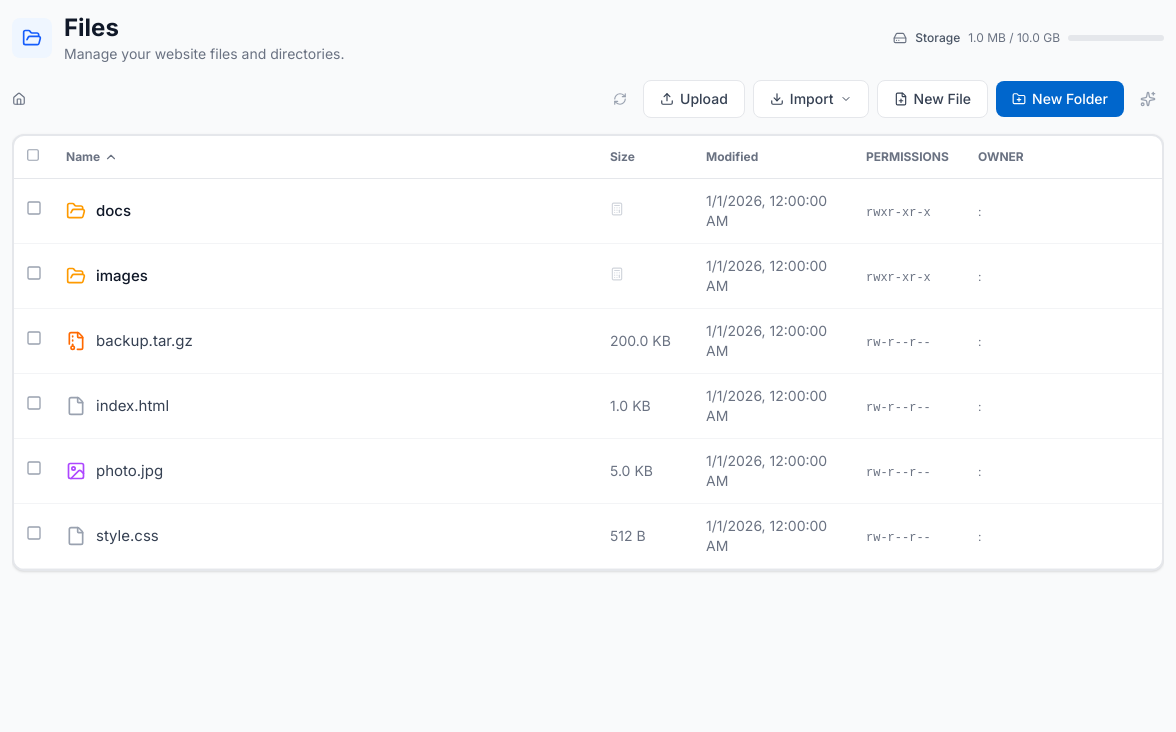
Test: Files Page › Multi-select › shows bulk toolbar when items are selected
Note: Row 0 is header, row 1+ are entries
Click the button without text next to "docs": (34, 208) [26,200,42,216]
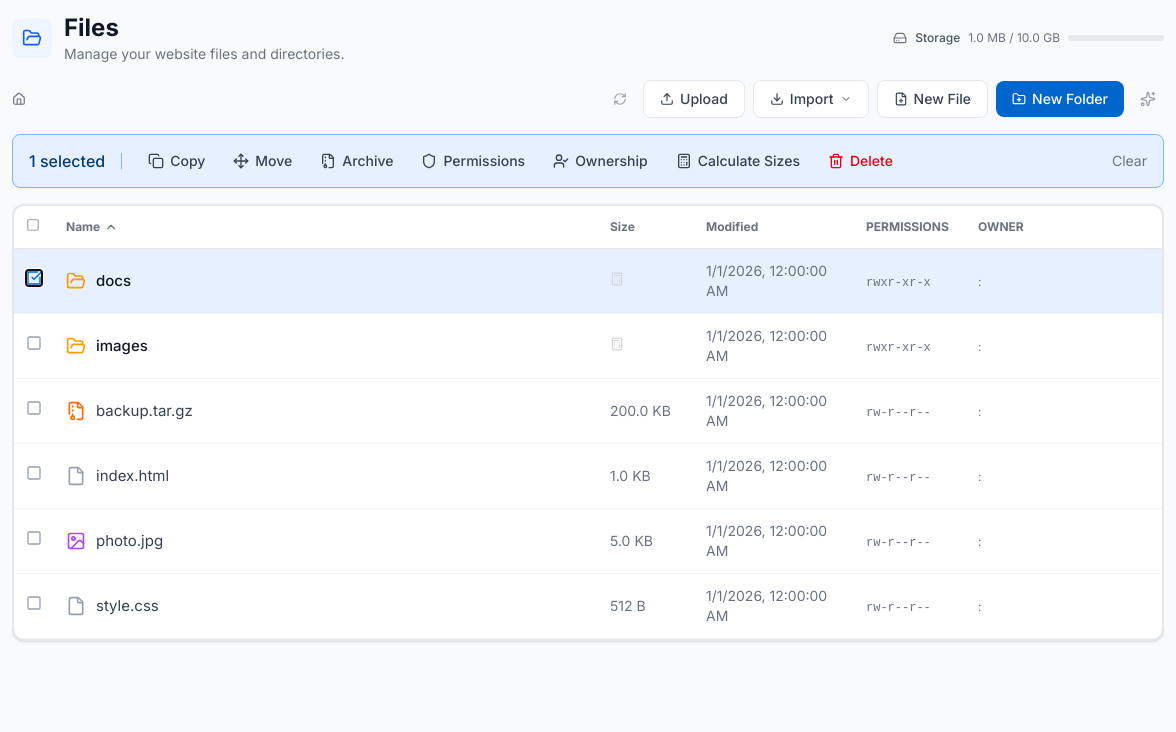
Now the text "1 selected" is shown, box [29,149,105,173]
Now the button "Copy" is shown, box [138,145,215,177]
Now the button "Move" is shown, box [223,145,302,177]
